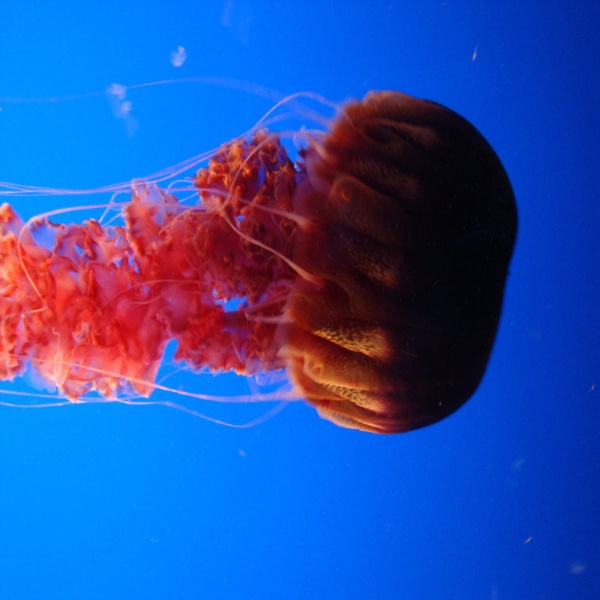Jellyfish: (0, 84, 524, 448)
